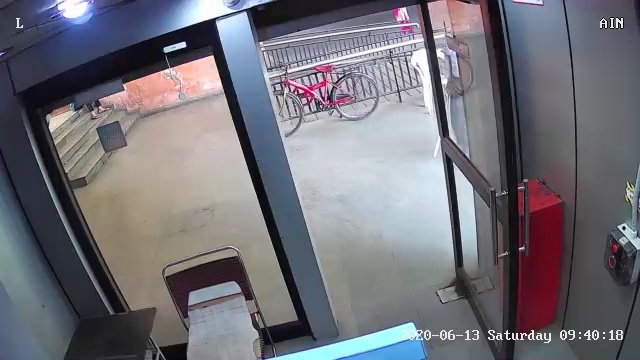open: (202, 1, 537, 357)
